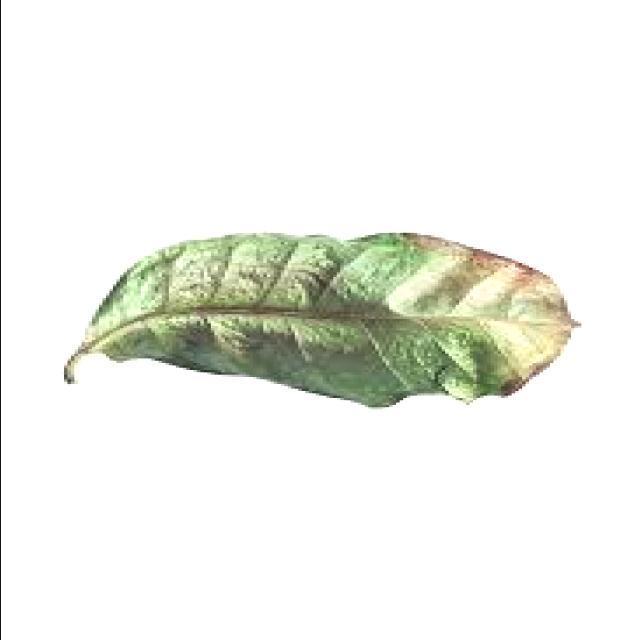leaf: (63, 229, 581, 408)
